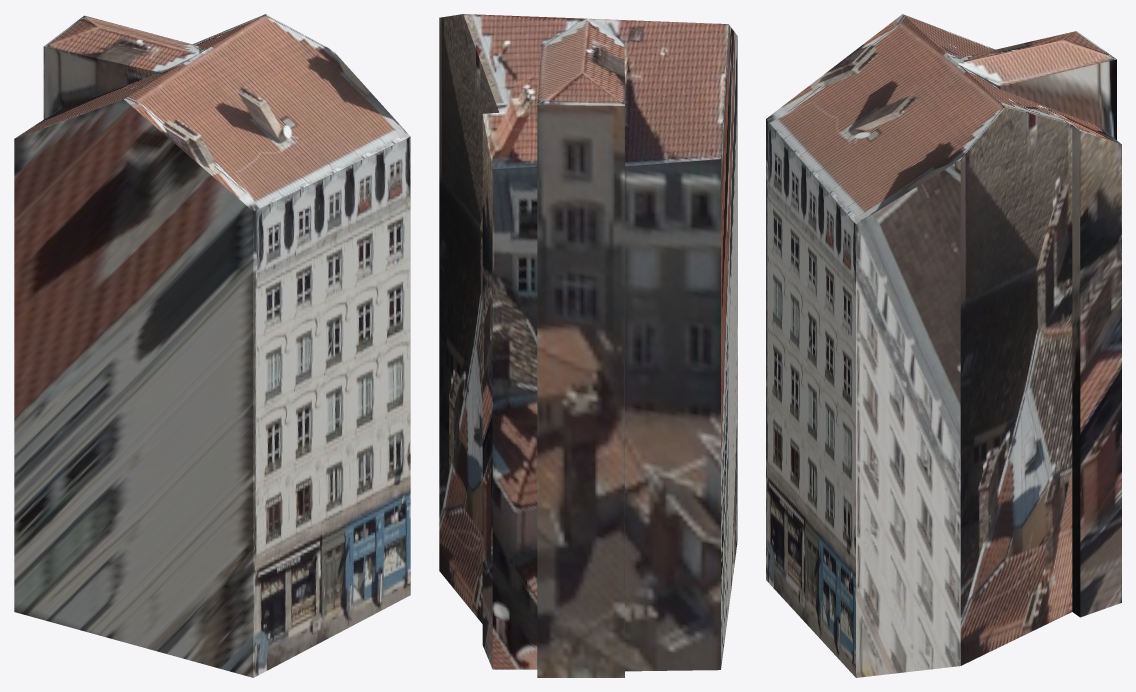
The picture shows the model from 3 angles, left to right: view 1: azimuth 30°, elevation 25°; view 2: azimuth 150°, elevation 25°; view 3: azimuth 270°, elevation 25°; orthographic projection. The views are drawn at different scales.
Parts seen in each view (by area): view 1: Z_UP; view 2: Z_UP; view 3: Z_UP.
Boxes of the visible parts, box(x1,y1,x2,y2) form: Z_UP: box(14, 14, 410, 677); Z_UP: box(439, 14, 737, 677); Z_UP: box(766, 14, 1121, 677).
Size of the model in its own units: 17.46 by 28.81 by 17.29.
Materials: 2 (1 with a texture image).
